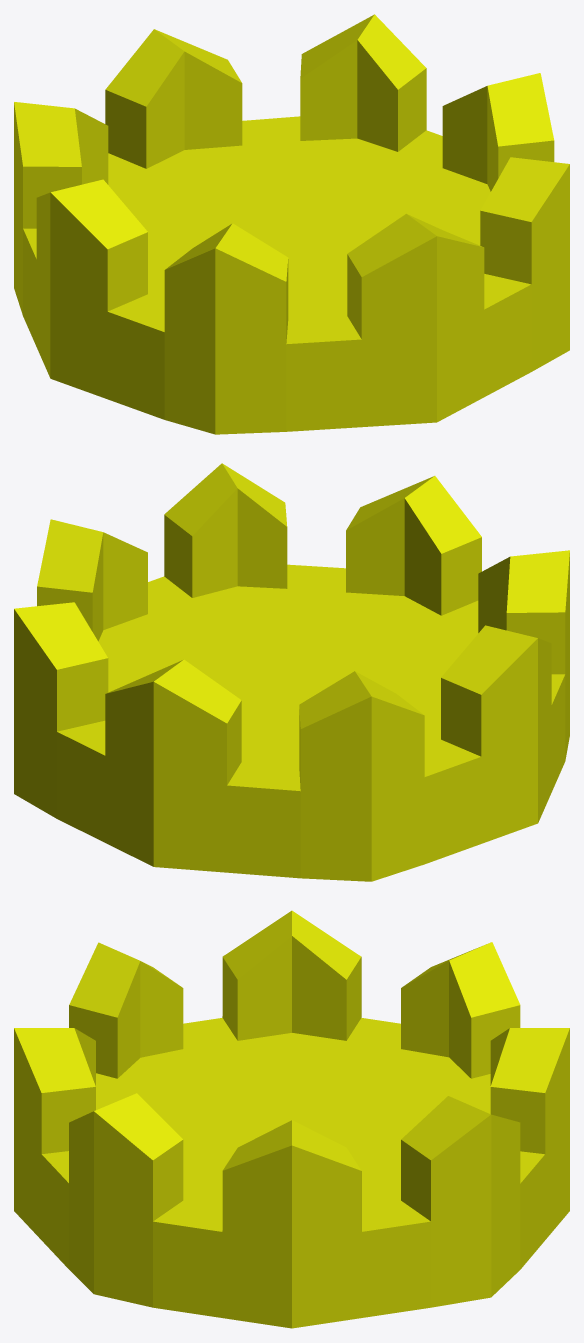
File: Elf-crown.fbx
3 views of the same model, one above another, from view 1: azimuth 30°, elevation 25°; view 2: azimuth 150°, elevation 25°; view 3: azimuth 270°, elevation 25° (orthographic).
Parts seen in each view (by area): view 1: Crown; view 2: Crown; view 3: Crown.
Boxes of the visible parts, x1,y1,x2,y2 form: Crown: (14,14,569,434); Crown: (14,463,569,881); Crown: (14,910,569,1328).
Size of the model in its own units: 26.53 by 9.64 by 26.53.
